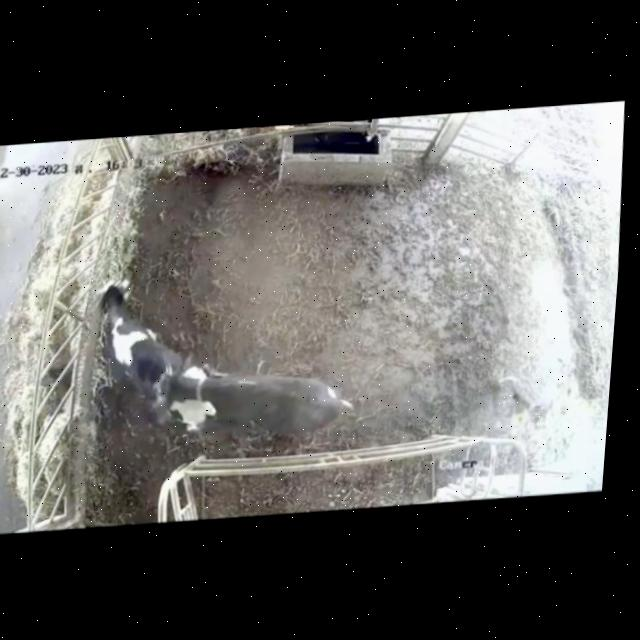ride: (129, 327, 367, 465)
stand: (78, 265, 194, 402)
